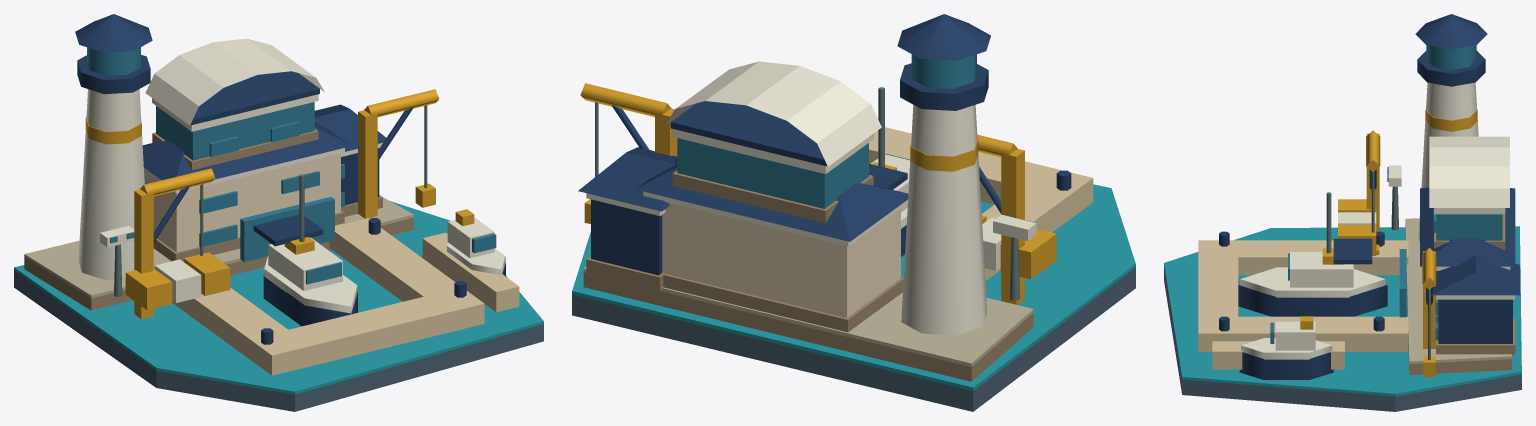
File: port-lv4.glb
3 views of the same model, side by side, from view 1: azimuth 30°, elevation 25°; view 2: azimuth 150°, elevation 25°; view 3: azimuth 270°, elevation 25° (orthographic). The views are drawn at different scales.
Visible parts, largest first — view 1: foundation_water, pier_stone, foundation_slate, lighthouse_white, warehouse_cream, terminal_canopy_white, cranes_ochre, vessel_white, terminal_glass, warehouse_roof_naval, quay_paving, terminal_roof_naval (+24 smaller); view 2: warehouse_cream, lighthouse_white, foundation_water, foundation_slate, terminal_canopy_white, quay_stoneDark, terminal_glass, quay_paving, warehouse_roof_naval, pier_stone, cranes_ochre, terminal_roof_naval (+19 smaller); view 3: foundation_water, pier_stone, vessel_white, vessel_naval, foundation_slate, terminal_canopy_white, warehouse_annex_naval, warehouse_roof_naval, quay_paving, warehouse_annex_roof_naval, lighthouse_white, cranes_ochre (+18 smaller).
Part boxes in pixels (x1=…): foundation_water: x1=14, y1=201, x2=543, y2=394; pier_stone: x1=172, y1=218, x2=484, y2=375; foundation_slate: x1=14, y1=270, x2=543, y2=411; lighthouse_white: x1=78, y1=89, x2=144, y2=279; warehouse_cream: x1=144, y1=153, x2=340, y2=252; terminal_canopy_white: x1=145, y1=38, x2=324, y2=125; cranes_ochre: x1=134, y1=89, x2=439, y2=319; vessel_white: x1=264, y1=217, x2=505, y2=313; terminal_glass: x1=156, y1=102, x2=314, y2=160; warehouse_roof_naval: x1=142, y1=122, x2=351, y2=180; quay_paving: x1=24, y1=197, x2=413, y2=298; terminal_roof_naval: x1=190, y1=71, x2=319, y2=125; warehouse_cream: x1=662, y1=203, x2=900, y2=317; lighthouse_white: x1=901, y1=105, x2=987, y2=335; foundation_water: x1=572, y1=184, x2=1135, y2=390; foundation_slate: x1=572, y1=268, x2=1135, y2=411; terminal_canopy_white: x1=664, y1=61, x2=881, y2=166; quay_stoneDark: x1=583, y1=272, x2=1033, y2=381; terminal_glass: x1=677, y1=138, x2=868, y2=208; quay_paving: x1=583, y1=266, x2=1033, y2=366; warehouse_roof_naval: x1=635, y1=159, x2=908, y2=241; pier_stone: x1=869, y1=127, x2=1093, y2=280; cranes_ochre: x1=580, y1=83, x2=1024, y2=304; terminal_roof_naval: x1=670, y1=101, x2=827, y2=165; foundation_water: x1=1164, y1=226, x2=1521, y2=396; pier_stone: x1=1198, y1=240, x2=1408, y2=351; vessel_white: x1=1240, y1=252, x2=1385, y2=359; vessel_naval: x1=1238, y1=238, x2=1387, y2=379; foundation_slate: x1=1164, y1=266, x2=1521, y2=411; terminal_canopy_white: x1=1429, y1=136, x2=1509, y2=207; warehouse_annex_naval: x1=1438, y1=299, x2=1512, y2=343; warehouse_roof_naval: x1=1420, y1=187, x2=1515, y2=266; quay_paving: x1=1405, y1=218, x2=1511, y2=363; warehouse_annex_roof_naval: x1=1431, y1=255, x2=1520, y2=295; lighthouse_white: x1=1418, y1=82, x2=1478, y2=240; cranes_ochre: x1=1366, y1=130, x2=1436, y2=348.
Size of the model in its own units: 1 by 0.7183 by 0.9036.
